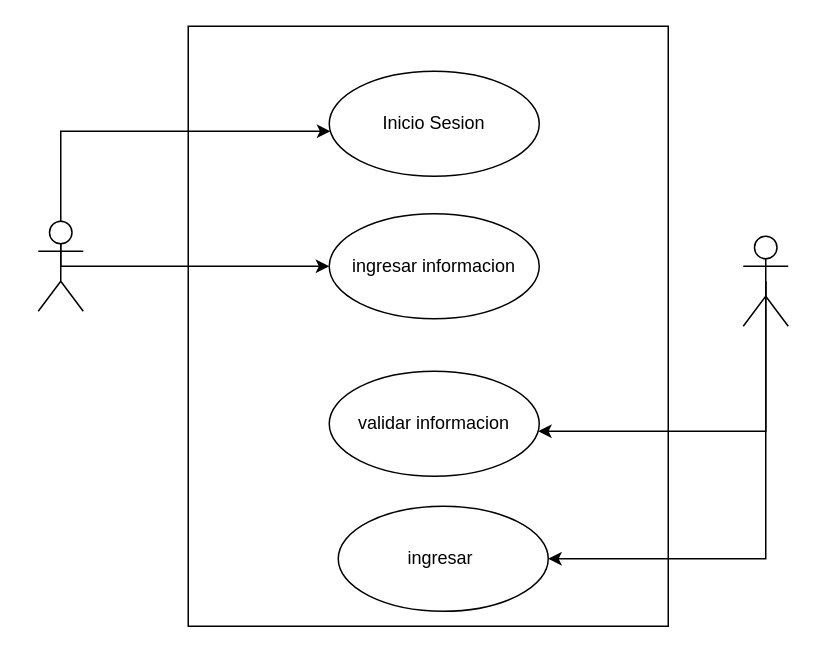
The diagram is 824 pixels wide and 653 high, and some of its shapes have lost their labels. The centre of each missing label's shape, as x and y in pixels:
Personal: pixel 60 265
Sistema: pixel 765 280
